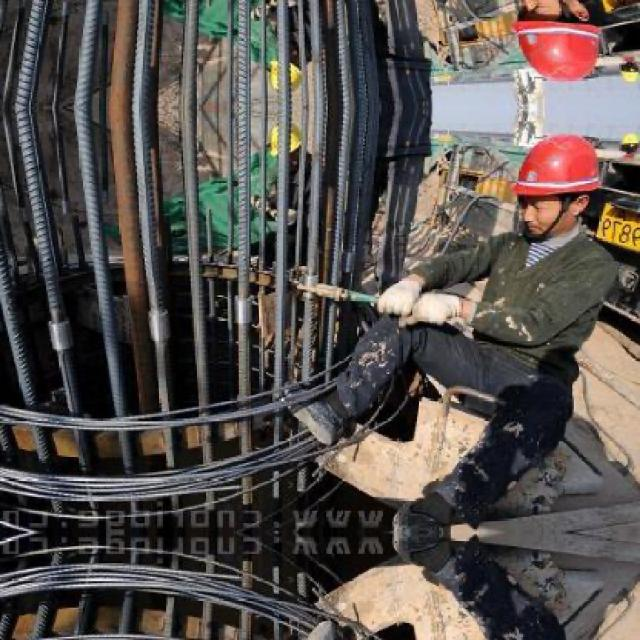helmet: (509, 129, 608, 237), (508, 0, 608, 85), (266, 117, 311, 168), (266, 46, 311, 97)
